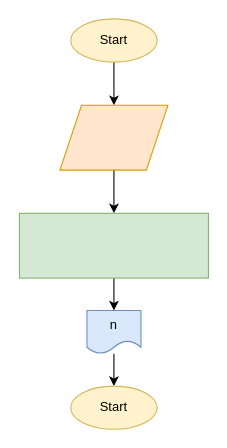
This 227x448 diagram has some shape labels left out. The shapes that lost their labels are listed below. From the top down, each one's centre as x and y in pixels, then its label:
(x=113, y=137): xa, xb, ya, yb
(x=113, y=245): n = (xa - xb)'' +(ya -yb)''
